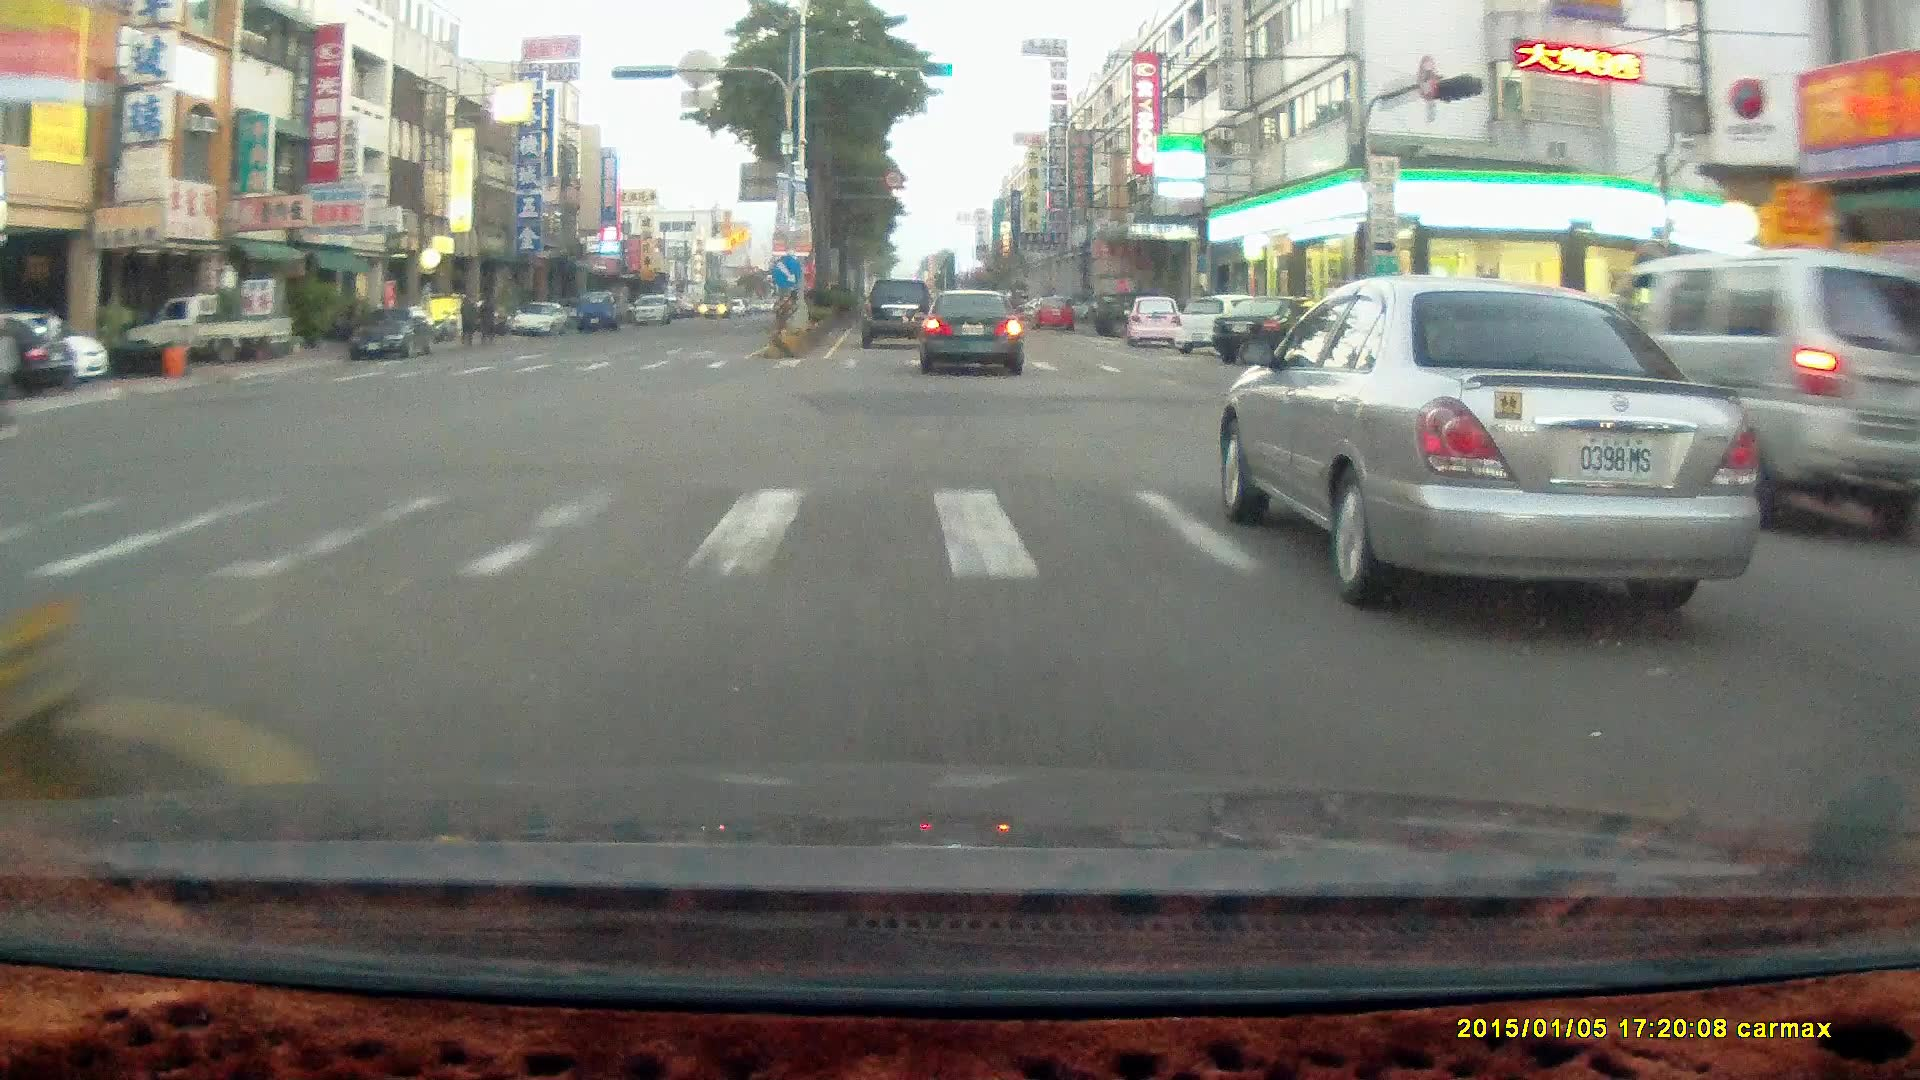pedestrian: (479, 281, 503, 344), (457, 287, 479, 346), (477, 290, 498, 347), (456, 289, 476, 348)
vehicle: (1225, 284, 1762, 603), (1583, 249, 1918, 539), (1579, 254, 1920, 516), (121, 293, 292, 374), (119, 293, 291, 369), (923, 292, 1030, 381), (1211, 291, 1341, 361), (920, 287, 1023, 375), (1216, 296, 1332, 364), (343, 300, 443, 363), (1177, 294, 1275, 356), (861, 276, 935, 352), (860, 277, 936, 348), (0, 318, 69, 392), (349, 309, 435, 359), (1120, 296, 1183, 350), (1091, 290, 1161, 336), (1127, 296, 1183, 349), (509, 301, 571, 339), (509, 301, 565, 335), (575, 289, 615, 330), (1031, 293, 1075, 328), (633, 294, 670, 324)
